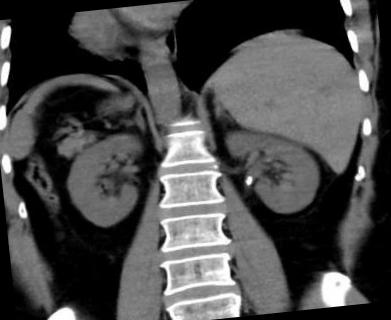Tas_Var: (245, 174, 252, 188)
